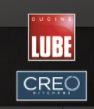creo: (15, 70, 89, 102)
lube: (25, 13, 76, 62)
lube creo: (12, 12, 90, 102)
